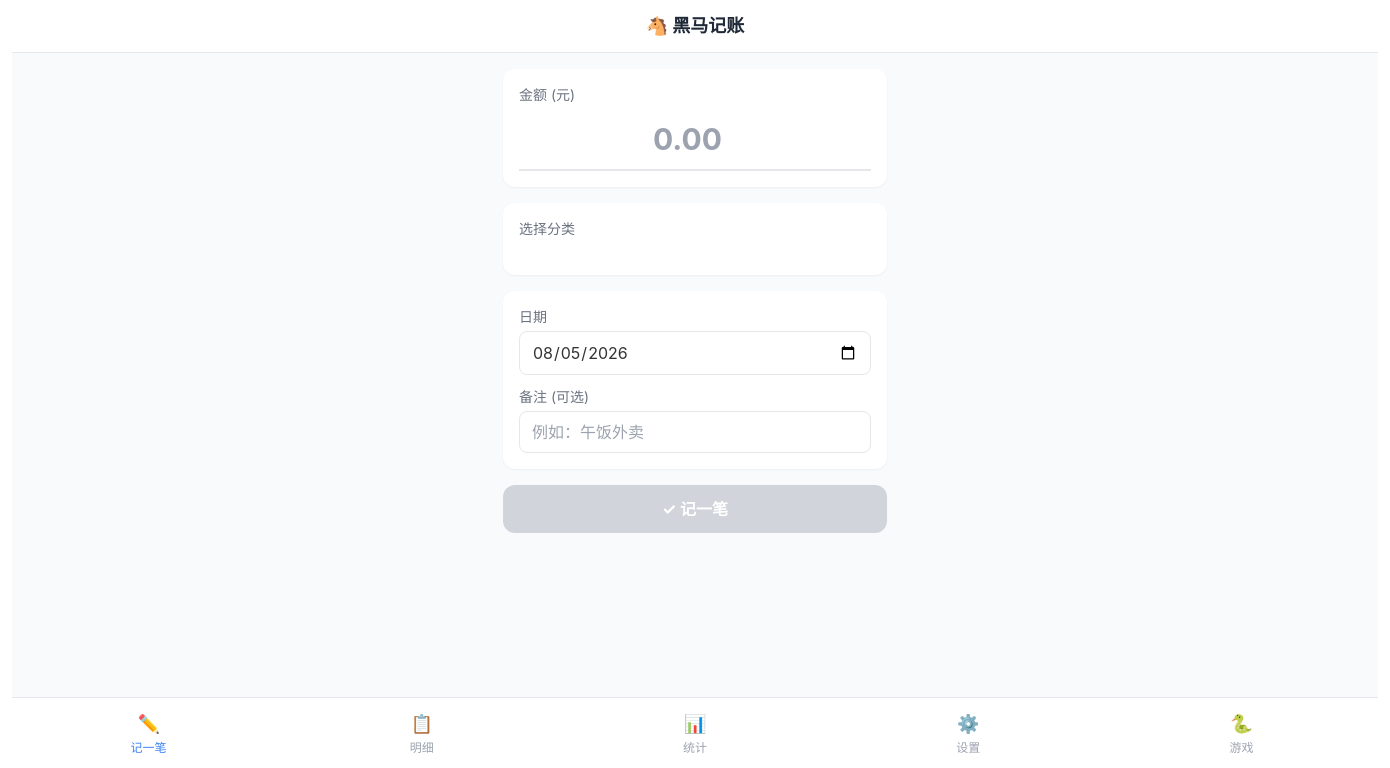
it: App — 主界面 › 导航切换 › 点击"统计"应切换到统计页
What coordinates should you click on to do the following:
click the text "统计"
I would click on:
 (695, 748)
Its box is left=683, top=740, right=707, bottom=756.
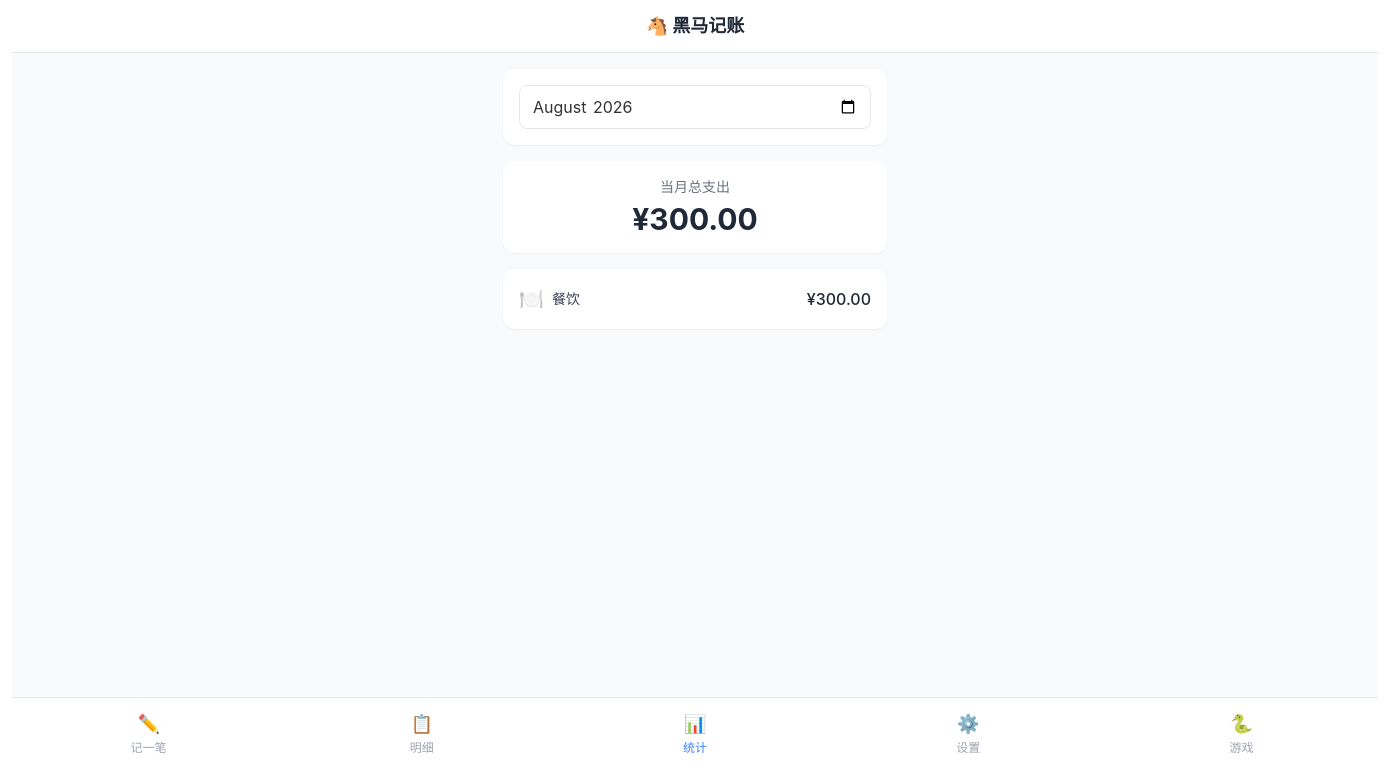
Expected: the text "当月总支出" is shown, left=660, top=178, right=730, bottom=195
